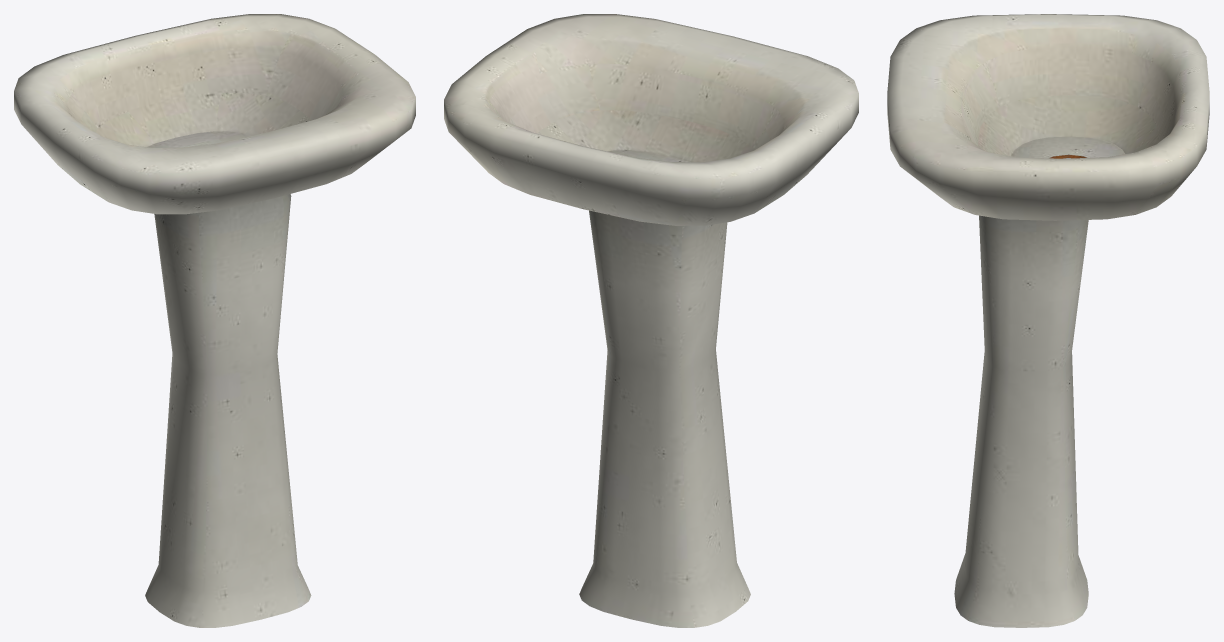
File: sink_pedestal_lod1_web.glb
3 renders of one model, left to right at view 1: azimuth 30°, elevation 25°; view 2: azimuth 150°, elevation 25°; view 3: azimuth 270°, elevation 25°, orthographic. The views are drawn at different scales.
Visible parts, largest first — view 1: SinkPedestal_Body; view 2: SinkPedestal_Body; view 3: SinkPedestal_Body.
Part boxes in pixels (x1,y1,x2,y2): SinkPedestal_Body: [14, 14, 415, 627]; SinkPedestal_Body: [444, 14, 858, 627]; SinkPedestal_Body: [887, 14, 1209, 627].
Size of the model in its own units: 0.56 by 0.83 by 0.48.
Materials: 2 (2 with a texture image).
